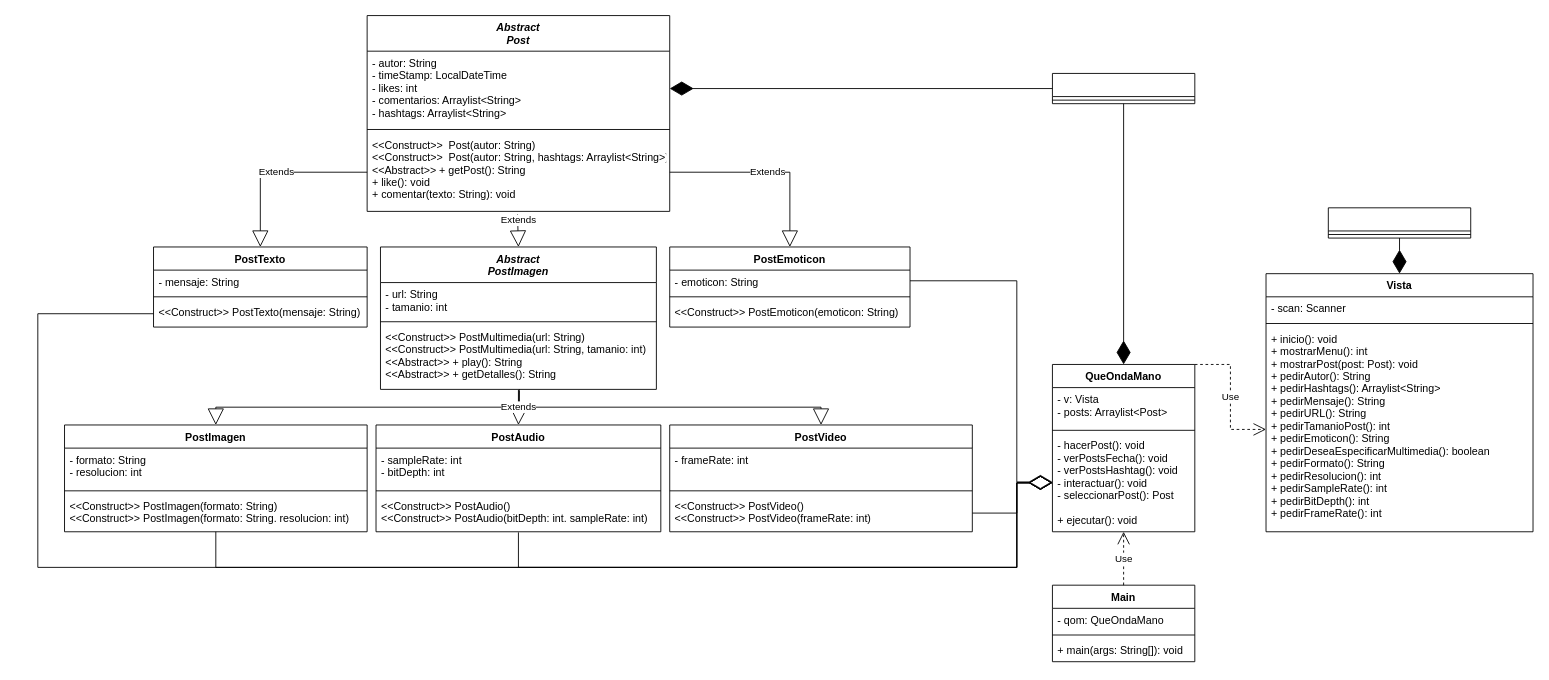
The diagram is 1549 pixels wide and 680 high, and some of its shapes have lost their labels. Here are the shapes that lost their labels. From the top down, the centre of each, then its label:
At pixel 1123 88: "Arraylist".
At pixel 1399 222: "Scanner".
